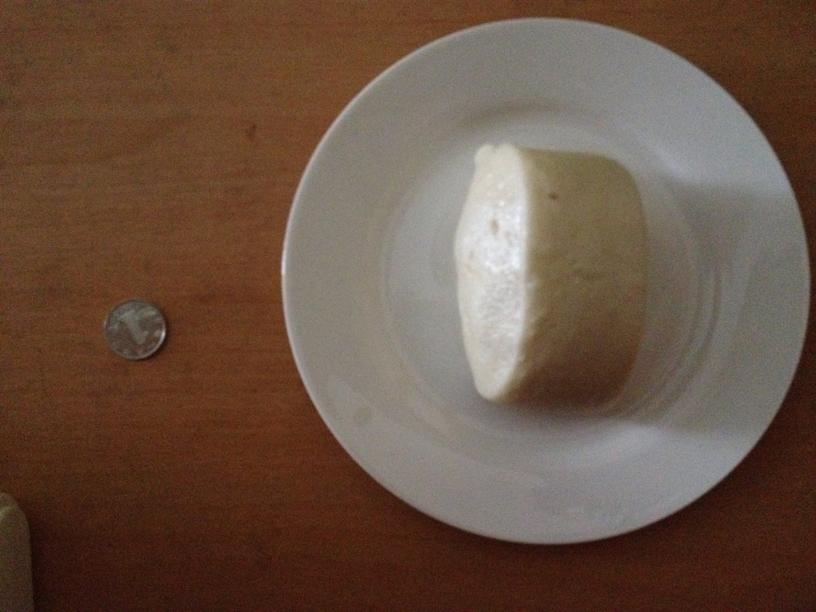bun: (439, 138, 644, 414)
coin: (100, 298, 166, 361)
